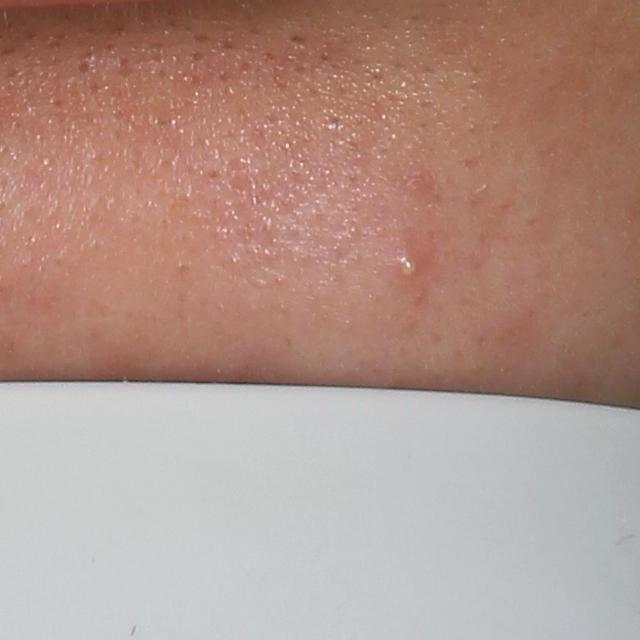comedo: (74, 59, 91, 77)
pustule: (393, 250, 424, 283)
